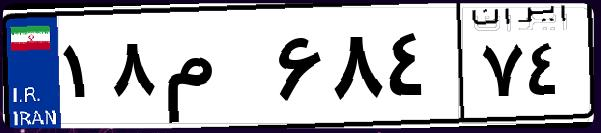1: (57, 26, 110, 100)
4: (385, 28, 445, 110), (525, 38, 570, 115)
6: (270, 28, 330, 110)
7: (475, 38, 525, 113)
8: (330, 28, 385, 110), (110, 28, 158, 98)
م: (158, 20, 270, 120)
